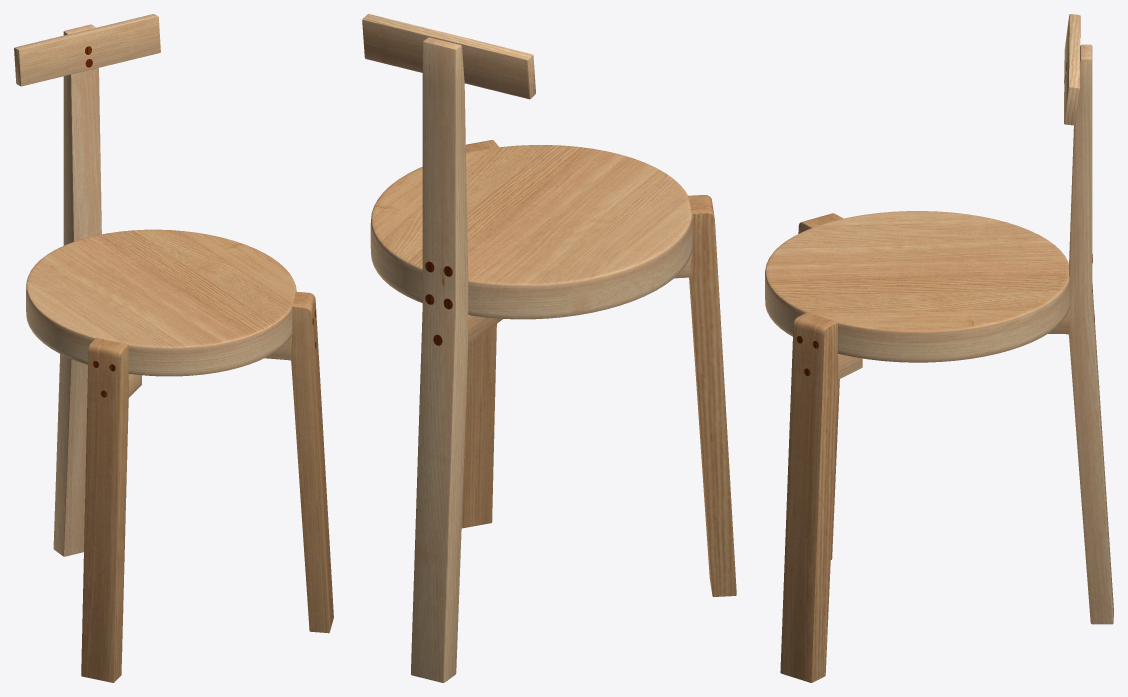
Rendered from cadeira_girafa.glb.
The picture shows the model from 3 angles, left to right: view 1: azimuth 30°, elevation 25°; view 2: azimuth 150°, elevation 25°; view 3: azimuth 270°, elevation 25°; orthographic projection. The views are drawn at different scales.
Visible parts, largest first — view 1: dv2ob-cadeira-girafa; view 2: dv2ob-cadeira-girafa; view 3: dv2ob-cadeira-girafa.
Part boxes in pixels (<box>): dv2ob-cadeira-girafa: <box>14,14,333,682</box>; dv2ob-cadeira-girafa: <box>362,14,736,682</box>; dv2ob-cadeira-girafa: <box>765,14,1113,682</box>.
Bounding box in the file's own units: 0.39 × 0.79 × 0.44.
Materials: 1 (1 with a texture image).
